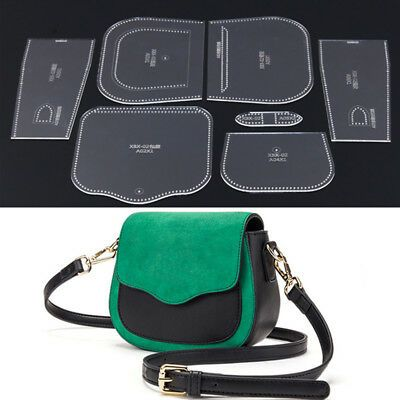cuero: (43, 211, 333, 400)
